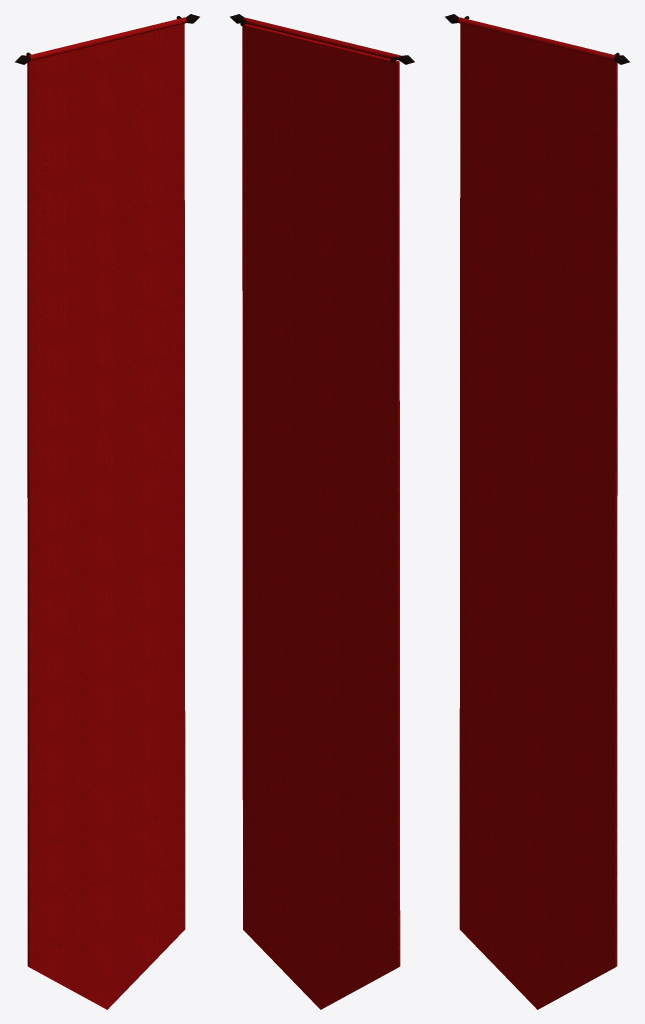
File: redBannerSF.obj
The picture shows the model from 3 angles, left to right: view 1: azimuth 30°, elevation 25°; view 2: azimuth 150°, elevation 25°; view 3: azimuth 330°, elevation 25°; orthographic projection.
Parts seen in each view (by area): view 1: red_banner; view 2: red_banner; view 3: red_banner.
Part boxes in pixels (<box>): red_banner: <box>14,14,199,1009</box>; red_banner: <box>230,14,414,1009</box>; red_banner: <box>445,14,630,1009</box>.
Size of the model in its own units: 128 by 639 by 8.82.
Materials: 2 (1 with a texture image).
